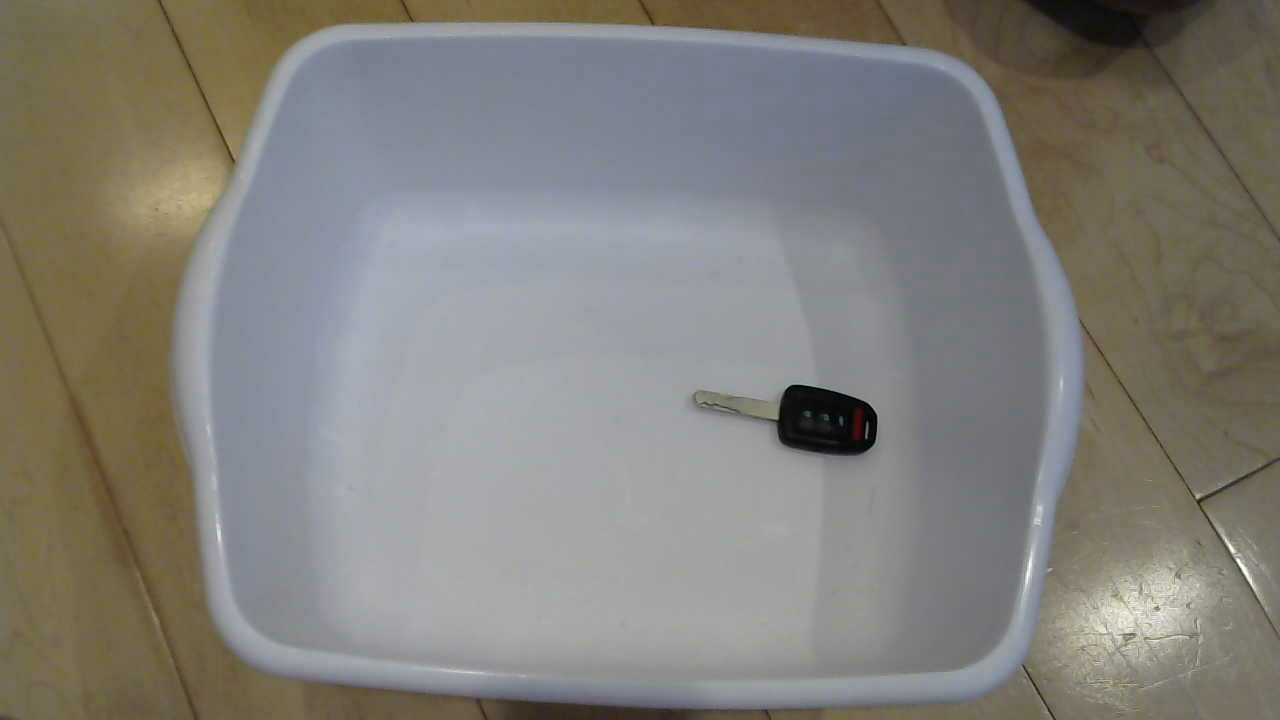key: (682, 363, 908, 464)
